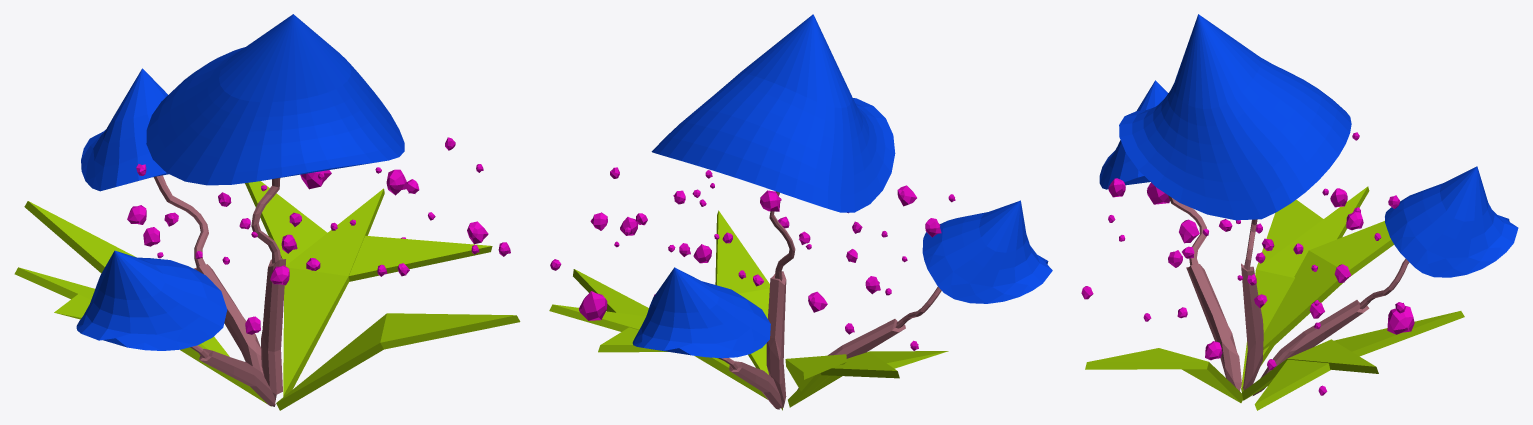
Rendered from plant_04_sporenpilz_state03.gltf.
3 views of the same model, side by side, from view 1: azimuth 30°, elevation 25°; view 2: azimuth 150°, elevation 25°; view 3: azimuth 270°, elevation 25° (orthographic). The views are drawn at different scales.
Parts seen in each view (by area): view 1: Plane, Sphere.001; view 2: Plane, Sphere.001; view 3: Plane, Sphere.001.
Part boxes in pixels (box(x1,y1,x2,y2)): Plane: box(14, 14, 520, 410); Sphere.001: box(127, 137, 510, 334); Plane: box(549, 14, 1052, 410); Sphere.001: box(550, 167, 955, 350); Plane: box(1085, 14, 1518, 410); Sphere.001: box(1081, 132, 1414, 395).
Size of the model in its own units: 0.5137 by 0.4441 by 0.4569.
